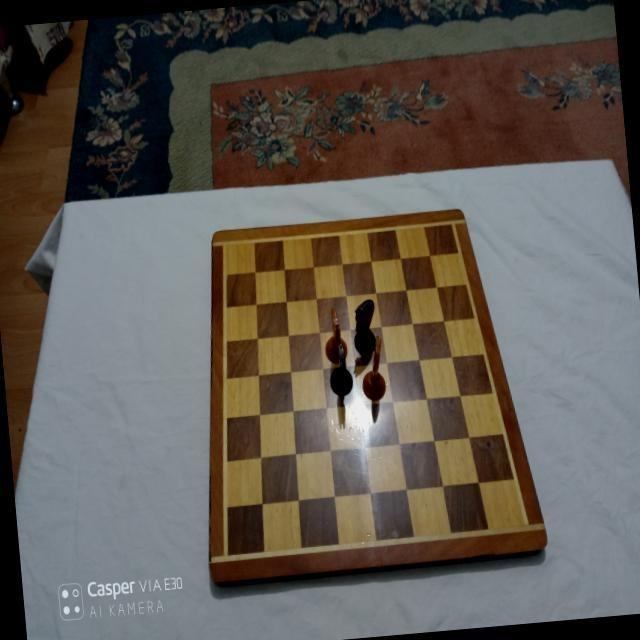black-knight: (326, 337, 354, 397), (350, 297, 378, 355)
white-knight: (356, 334, 387, 402), (320, 305, 347, 365)
